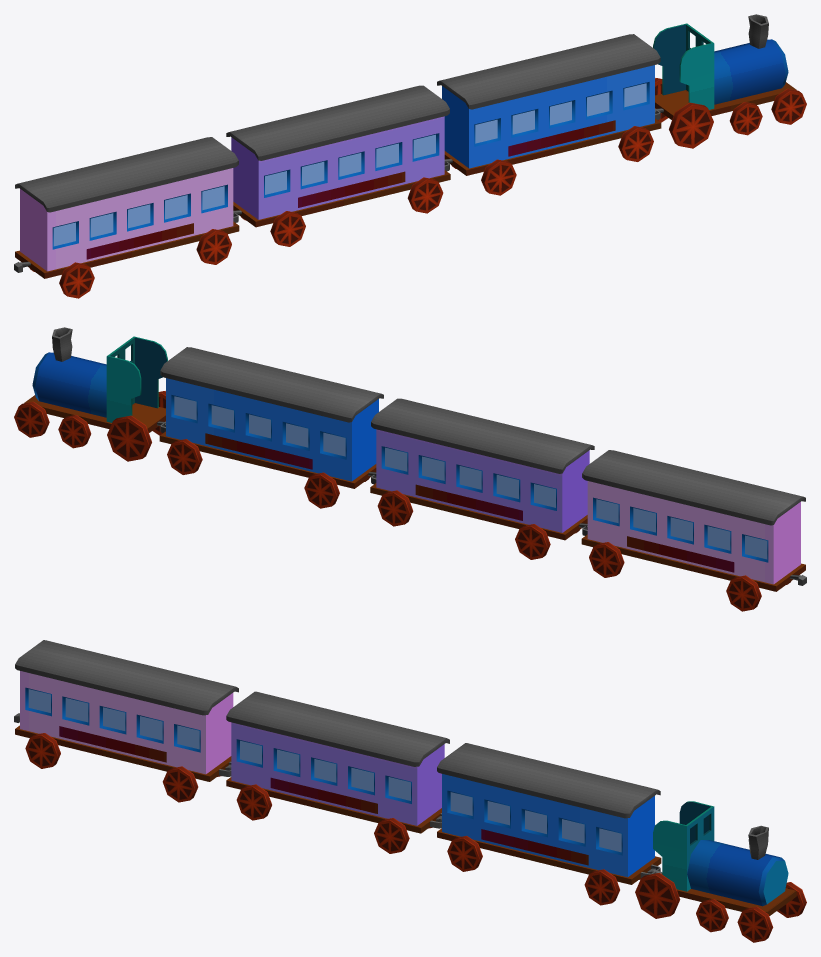
The model's file is zug1.fbx.
3 views of the same model, one above another, from view 1: azimuth 30°, elevation 25°; view 2: azimuth 150°, elevation 25°; view 3: azimuth 330°, elevation 25° (orthographic).
Visible parts, largest first — view 1: Wagon3, Wagon2, Wagon1, Lok1; view 2: Wagon3, Wagon2, Wagon1, Lok1; view 3: Wagon1, Wagon3, Wagon2, Lok1.
Part boxes in pixels (<box>): Wagon3: <box>14,137,239,298</box>; Wagon2: <box>226,85,450,246</box>; Wagon1: <box>437,34,661,195</box>; Lok1: <box>653,14,806,148</box>; Wagon3: <box>581,450,806,611</box>; Wagon2: <box>370,398,594,559</box>; Wagon1: <box>159,347,383,508</box>; Lok1: <box>14,327,167,461</box>; Wagon1: <box>436,743,661,905</box>; Wagon3: <box>14,640,238,802</box>; Wagon2: <box>225,691,449,853</box>; Lok1: <box>635,801,806,942</box>.
Size of the model in its own units: 1065 by 132 by 89.28.
